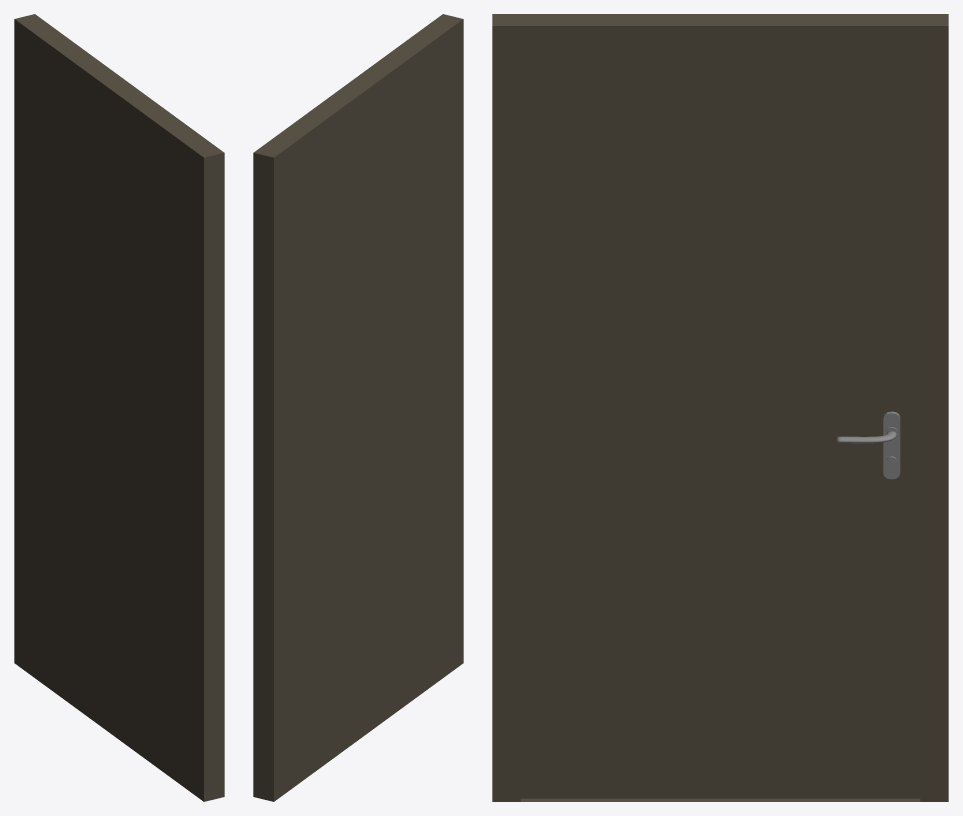
The model's file is Room.fbx.
3 views of the same model, side by side, from view 1: azimuth 30°, elevation 25°; view 2: azimuth 150°, elevation 25°; view 3: azimuth 270°, elevation 25° (orthographic). The views are drawn at different scales.
Parts seen in each view (by area): view 1: Cube.025; view 2: Cube.025; view 3: Cube.025, Cube.026.
Part boxes in pixels (box(x1,y1,x2,y2)): Cube.025: box(14, 14, 224, 801); Cube.025: box(253, 14, 463, 801); Cube.025: box(492, 14, 948, 801); Cube.026: box(883, 411, 900, 479).
Bounding box in the file's own units: 8.45 × 150 × 80.
